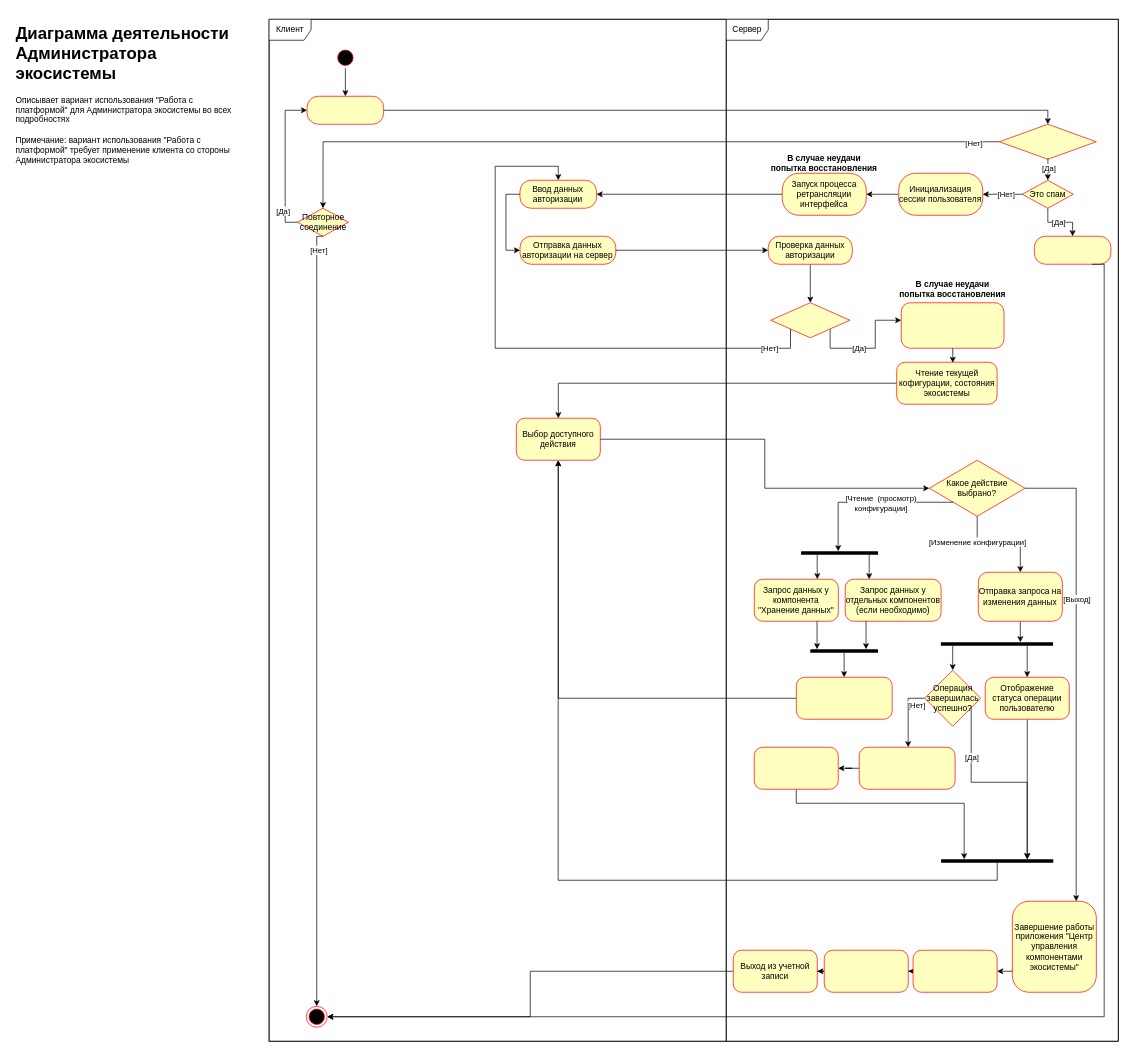
Image size: 1131x1054. Some labels were removed from this diagram. The shapes that lost their labels are listed below. From the top down, each one's centre as x and y in pixels, then its label:
pixel 345 110: Установление связи с сервером
pixel 1047 141: Связь установлена
pixel 1072 250: Внести IP-адрес в чёрный список
pixel 810 320: Авторизация прошла успешно
pixel 952 325: Запуск приложения "Центр управления компонентами экосистемы"
pixel 844 698: Отображение данных
pixel 796 768: Восстановление работоспособности экосистемы
pixel 907 768: Запуск справки, средств восстановления и диагностики
pixel 866 971: Остановка ретрансляции
pixel 954 971: Блокировка состояния сервера
